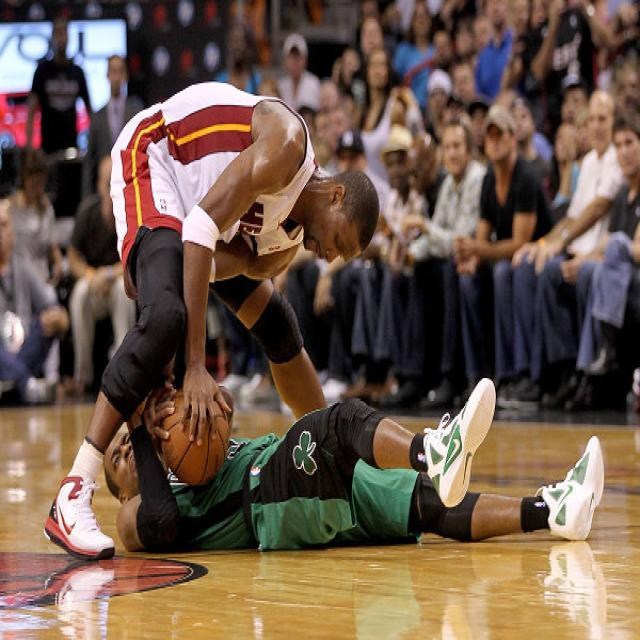10-: (1, 0, 638, 568)
down: (85, 356, 606, 559)
